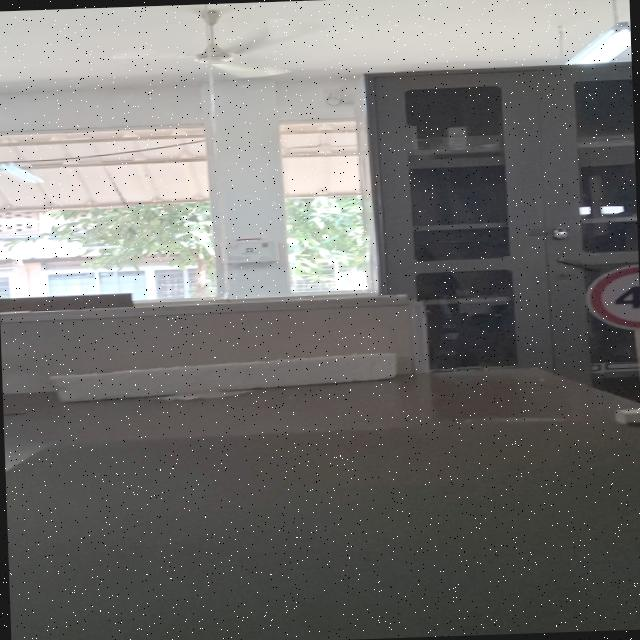Speed40: (580, 260, 640, 334)
